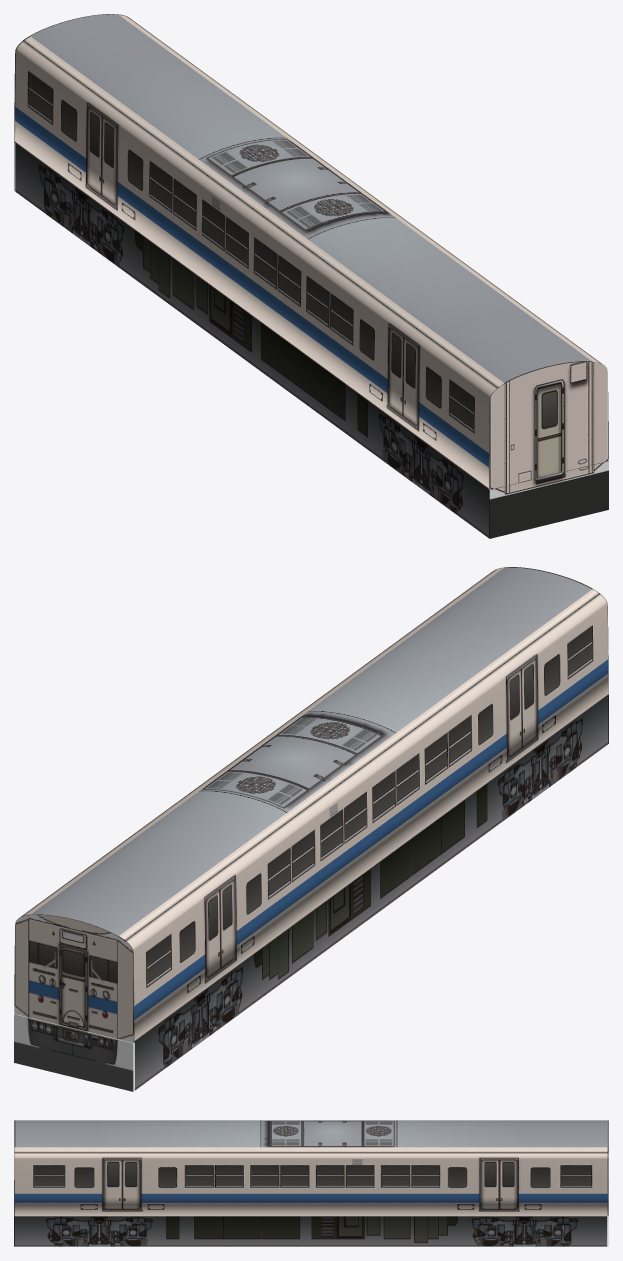
The model's file is car3.glb.
3 renders of one model, top to bottom at view 1: azimuth 30°, elevation 25°; view 2: azimuth 150°, elevation 25°; view 3: azimuth 270°, elevation 25°, orthographic. The views are drawn at different scales.
Parts seen in each view (by area): view 1: jr-west-115-car3; view 2: jr-west-115-car3; view 3: jr-west-115-car3.
Boxes of the visible parts, left/top/right/bottom form: jr-west-115-car3: left=14, top=14, right=608, bottom=538; jr-west-115-car3: left=14, top=567, right=608, bottom=1091; jr-west-115-car3: left=14, top=1120, right=608, bottom=1246.
Bounding box in the file's own units: 2.9 × 3.65 × 20.03.
9 materials, 8 textured.
